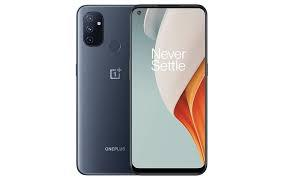Smartphone: (129, 4, 206, 175), (75, 8, 137, 174)
